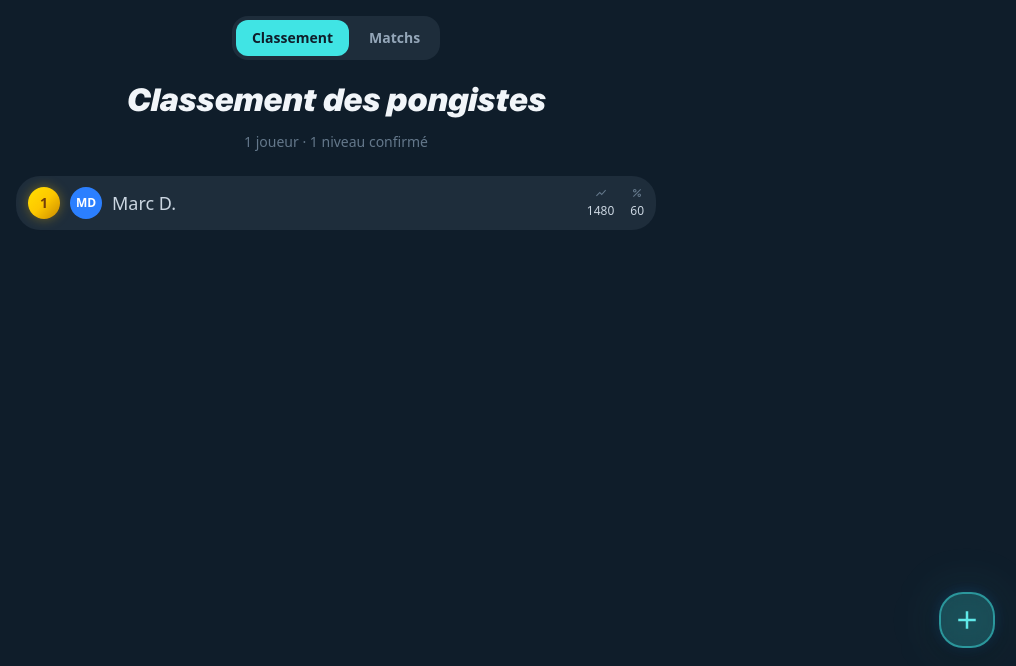
it: PingpongPage › the heading follows the selected panel › restores the ranking title on the way back
The width and height of the screenshot is (1016, 666).
What coordinates should you click on to do the following:
click the tab "Matchs"
I would click on:
 (395, 38)
Its box is [353,20,436,56].
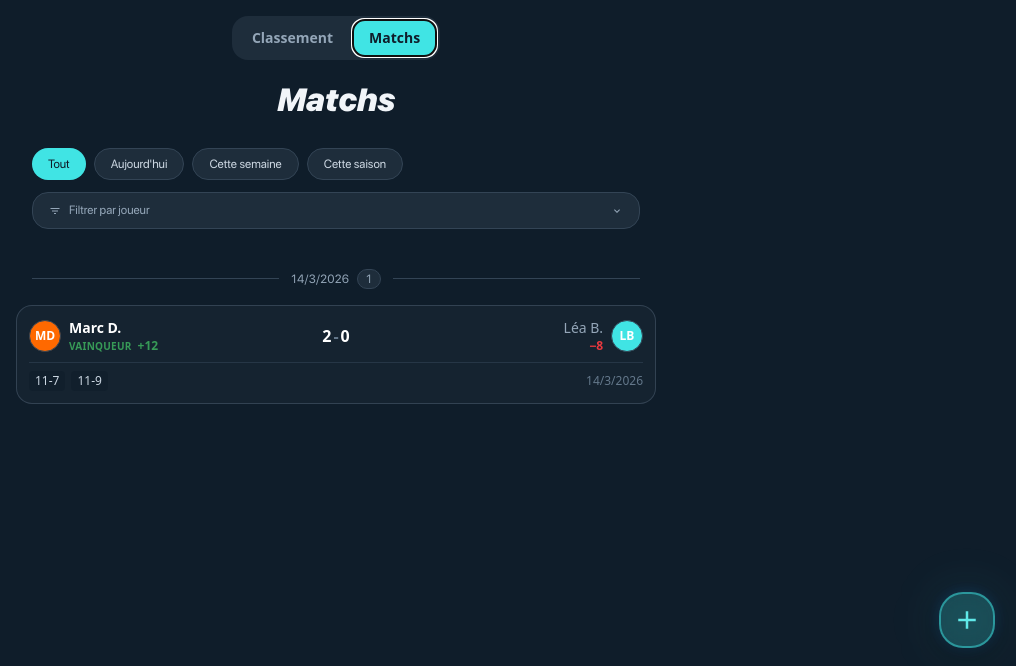
What coordinates should you click on to do the following:
click the tab "Classement"
I would click on:
 (292, 38)
Its box is [236,20,349,56].
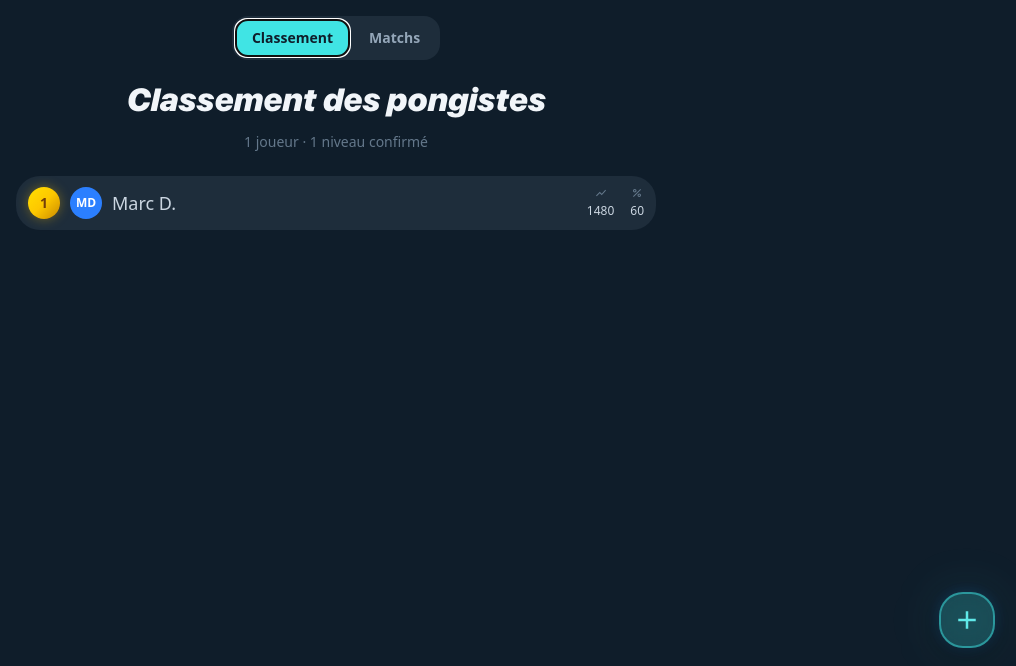
Check: the heading "Classement des pongistes" is shown, box [126,76,546,124]
